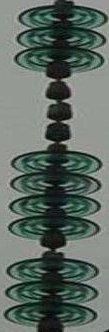gap: (8, 45, 106, 173), (5, 213, 100, 284)
